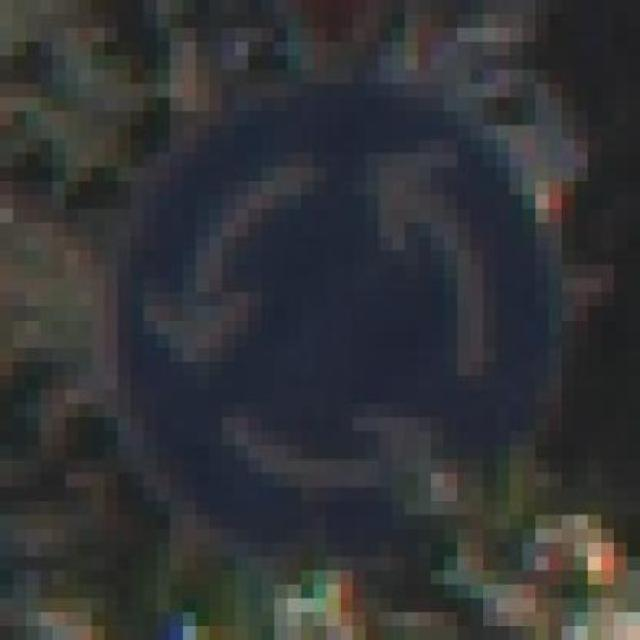Round-About: (65, 56, 588, 570)
